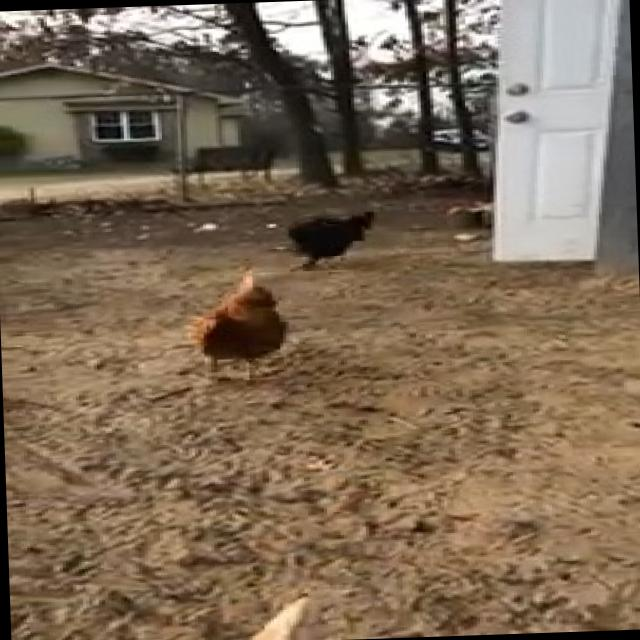running: (160, 270, 319, 392), (260, 212, 407, 274)
